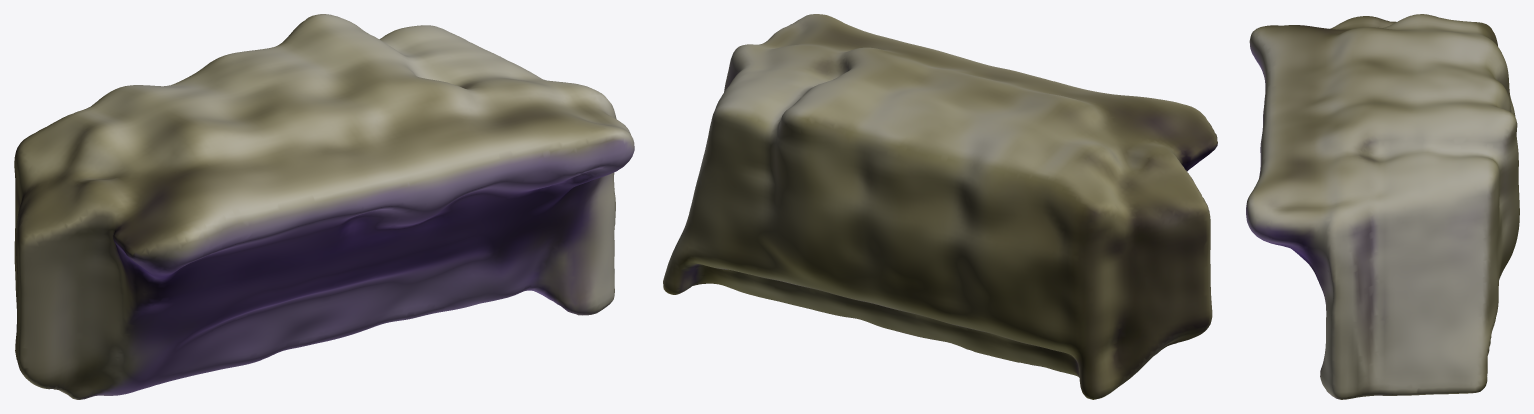
File: sofa.glb
3 views of the same model, side by side, from view 1: azimuth 30°, elevation 25°; view 2: azimuth 150°, elevation 25°; view 3: azimuth 270°, elevation 25° (orthographic). The views are drawn at different scales.
Size of the model in its own units: 0.9986 by 0.4444 by 0.5068.
